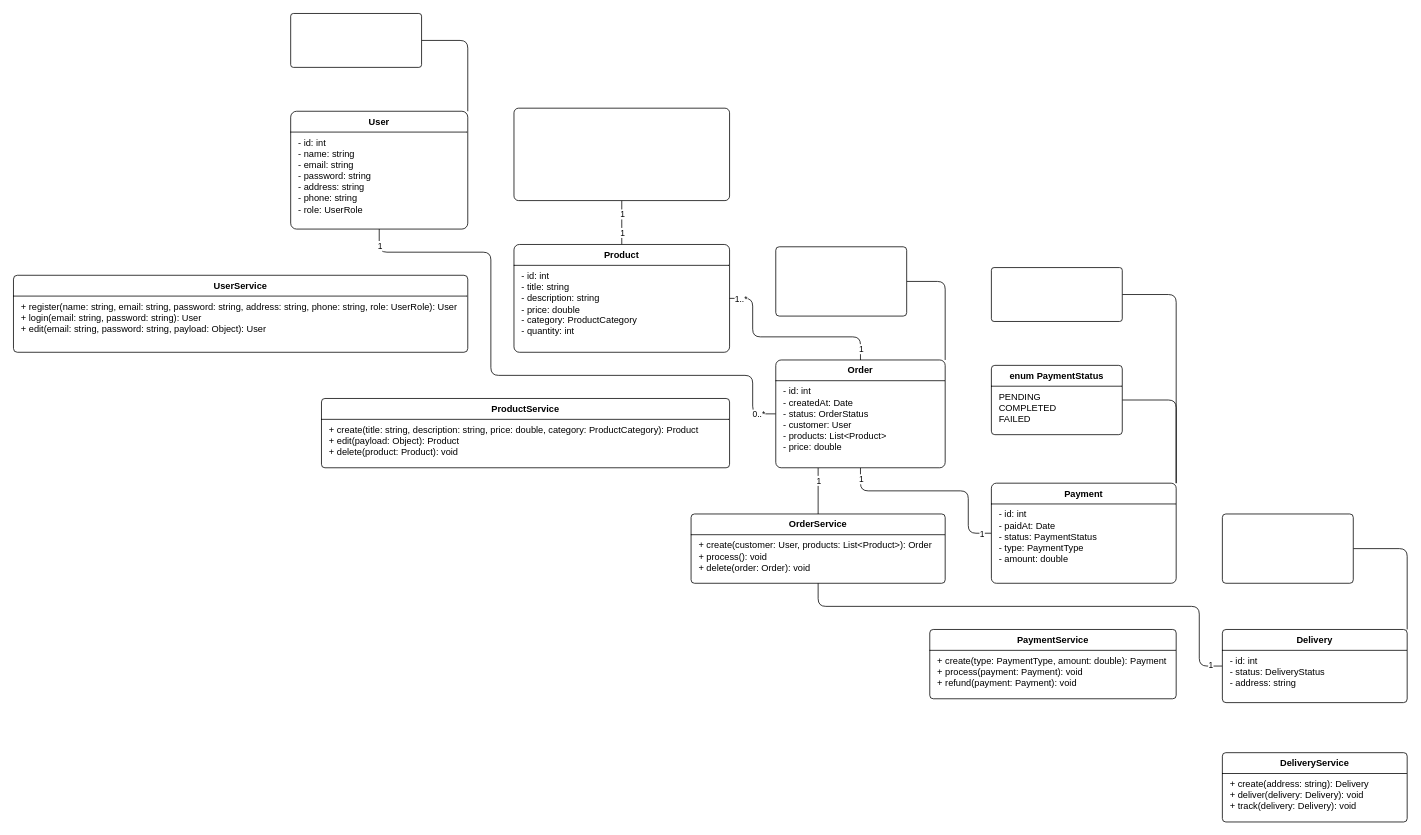
The diagram is 1421 pixels wide and 835 high, and some of its shapes have lost their labels. The shapes that lost their labels are listed below. From the top down, each one's box as (x1, y1, x2, y2) in pixels, then its label:
(290, 13, 422, 67): enum UserRole CUSTOMER ADMIN
(513, 107, 730, 201): ProductCategory - id: int - title: string + getId(): int + getTitle(): string
(775, 246, 907, 316): enum OrderStatus PLACED DELIVERED CANCELED
(991, 267, 1122, 321): enum PaymentType CARD EWALLET
(1222, 513, 1353, 583): enum DeliveryStatus PENDING COMPLETED FAILED
